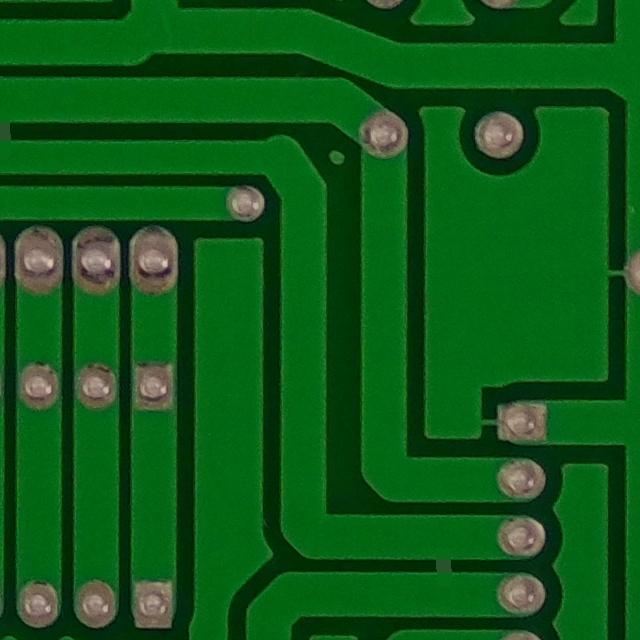short: (401, 517, 490, 615), (0, 81, 57, 181)
